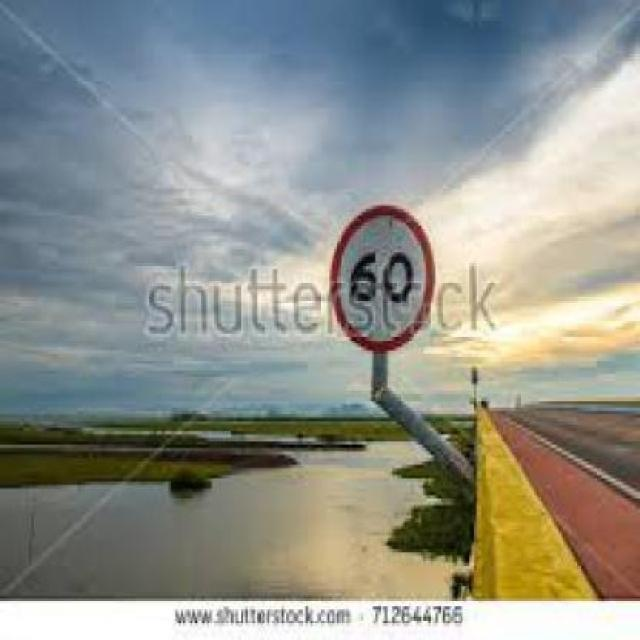forb_speed_over_60: (333, 206, 433, 349)
